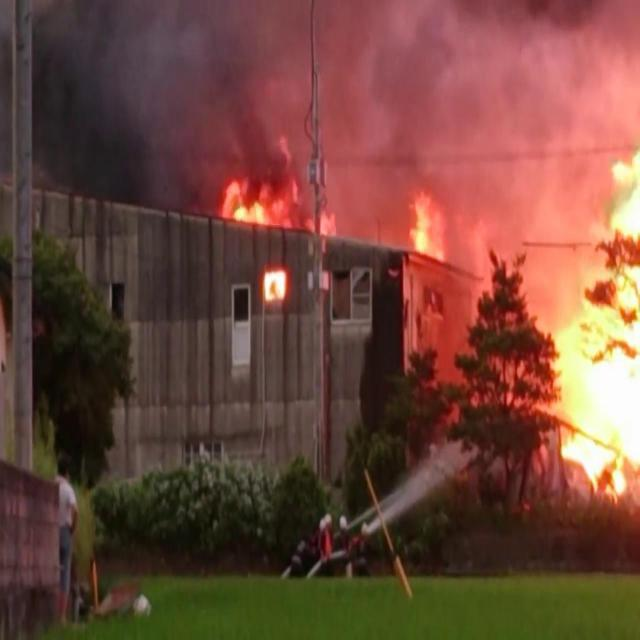Fire: (539, 149, 638, 497), (218, 180, 292, 230), (406, 188, 448, 262)
